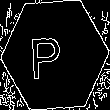P_N: (37, 29, 73, 81)
